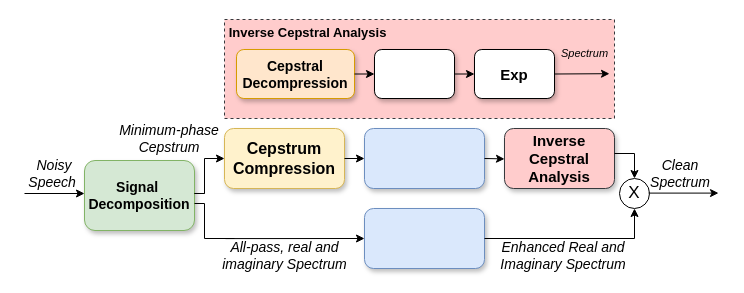
The diagram is 744 pixels wide and 293 high, and some of its shapes have lost their labels. Each missing label, with the centre of its shape:
"Conformer U-Net All" belongs at (x=425, y=240).
"Conformer U-Net Mini" belongs at (x=425, y=160).
"DFT" belongs at (x=415, y=75).
